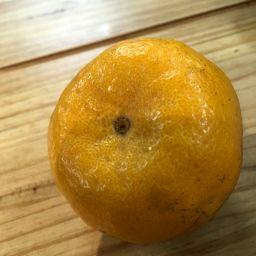Ripe: (49, 38, 245, 241)
